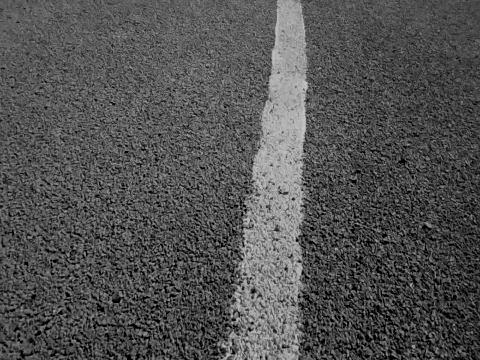Lines: (219, 0, 309, 360)
